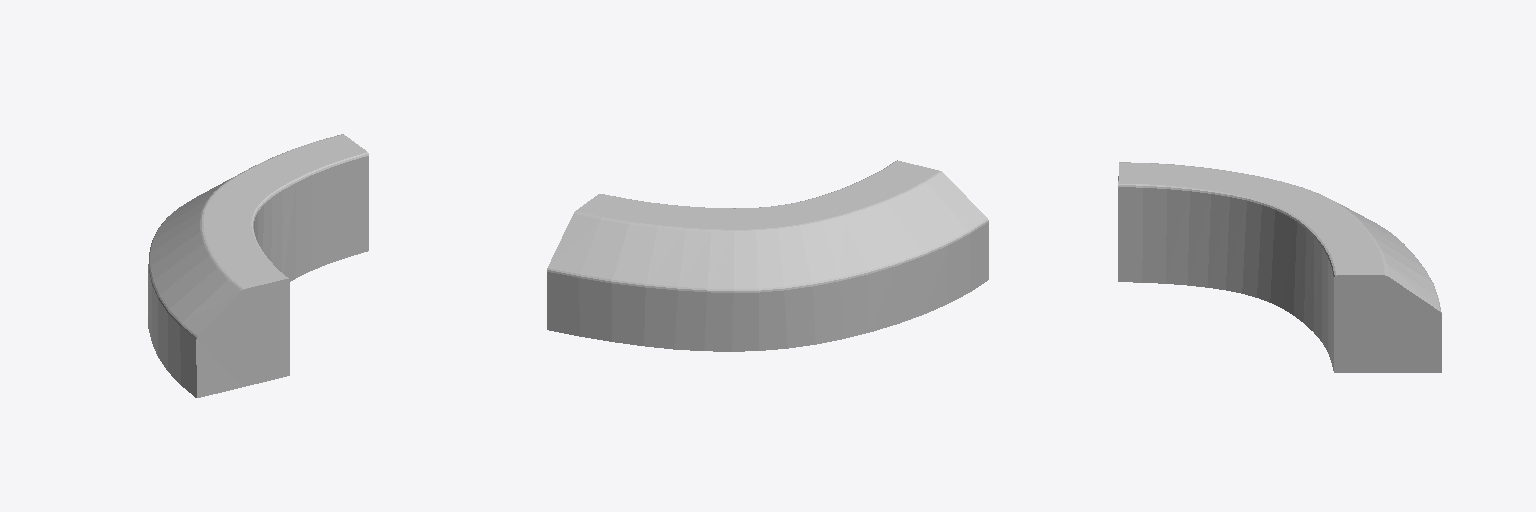
Rendered from Inside Bend_HP.obj.
The picture shows the model from 3 angles: view 1: azimuth 30°, elevation 25°; view 2: azimuth 150°, elevation 25°; view 3: azimuth 270°, elevation 25°; orthographic projection.
Parts seen in each view (by area): view 1: Inside_Bend_HP; view 2: Inside_Bend_HP; view 3: Inside_Bend_HP.
Part boxes in pixels (bbox=[...]): Inside_Bend_HP: bbox=[148, 134, 368, 397]; Inside_Bend_HP: bbox=[547, 160, 988, 351]; Inside_Bend_HP: bbox=[1118, 162, 1441, 372].
Size of the model in its own units: 3 by 1 by 3.